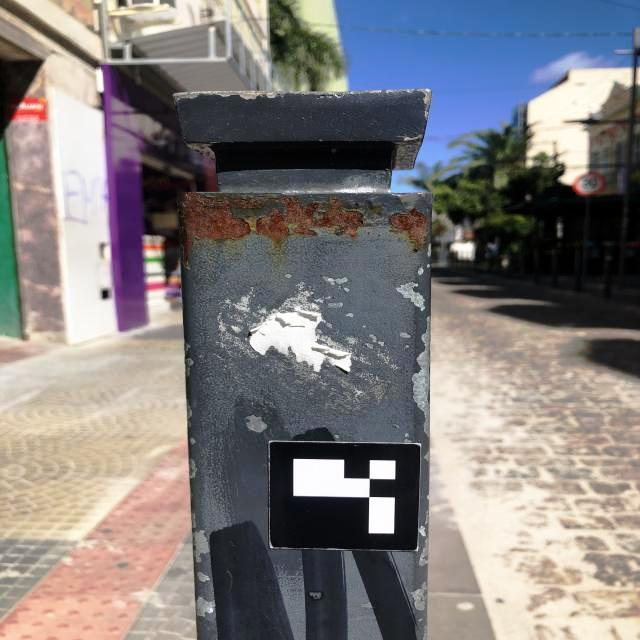Corrosion: (176, 192, 364, 267), (390, 208, 429, 244), (427, 193, 433, 198), (414, 246, 421, 250), (414, 192, 418, 195), (422, 193, 425, 196)
